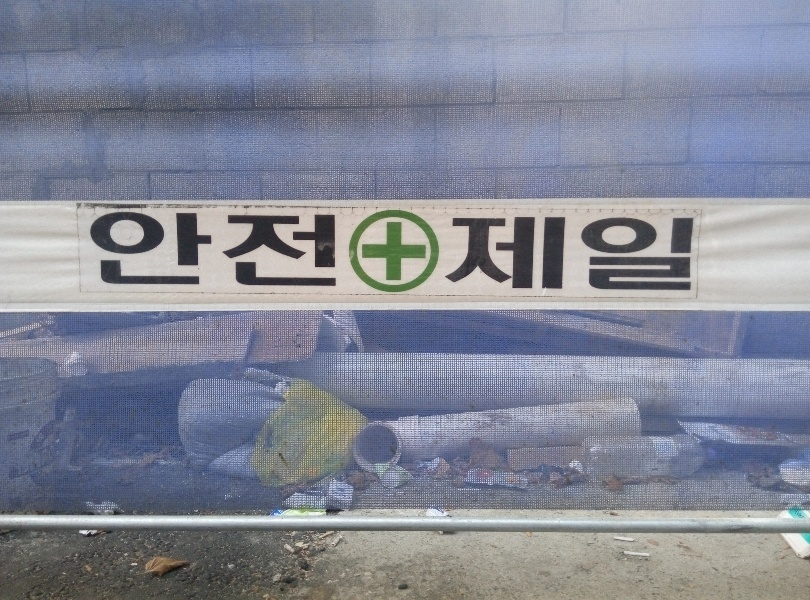text: (97, 211, 112, 292), (113, 211, 128, 292), (129, 211, 144, 292), (145, 211, 160, 292), (161, 211, 176, 292), (177, 211, 192, 292), (193, 211, 208, 292), (209, 211, 224, 292), (225, 211, 240, 292), (241, 211, 256, 292), (257, 211, 272, 292), (273, 211, 288, 292), (289, 211, 304, 292), (305, 211, 320, 292), (321, 211, 336, 292), (449, 216, 464, 297), (465, 216, 480, 297), (481, 216, 496, 297), (497, 216, 512, 297), (513, 216, 528, 297), (529, 216, 544, 297), (545, 216, 560, 297), (561, 216, 576, 297), (577, 216, 592, 297), (593, 216, 608, 297), (609, 216, 624, 297), (625, 216, 640, 297), (641, 216, 656, 297), (657, 216, 672, 297), (673, 216, 688, 297), (369, 222, 384, 284), (385, 222, 400, 284), (401, 222, 416, 284), (85, 211, 96, 292), (417, 222, 428, 284), (689, 216, 697, 297), (358, 222, 368, 284), (17, 443, 32, 478), (33, 443, 48, 478), (443, 216, 448, 297), (49, 443, 57, 478), (337, 211, 340, 292), (17, 430, 30, 442), (7, 430, 16, 442), (41, 431, 48, 445), (14, 443, 16, 478), (279, 510, 288, 516), (792, 510, 800, 513), (798, 511, 800, 519), (801, 511, 803, 519), (801, 515, 805, 519)
